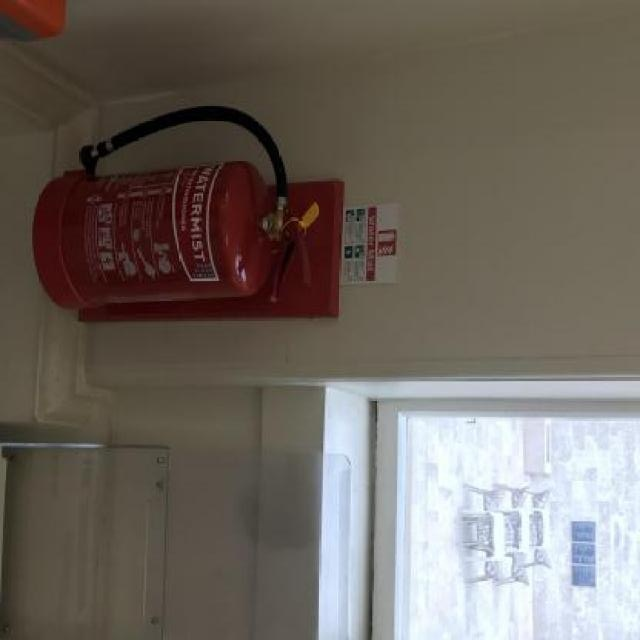fire extinguisher: (32, 102, 312, 310)
